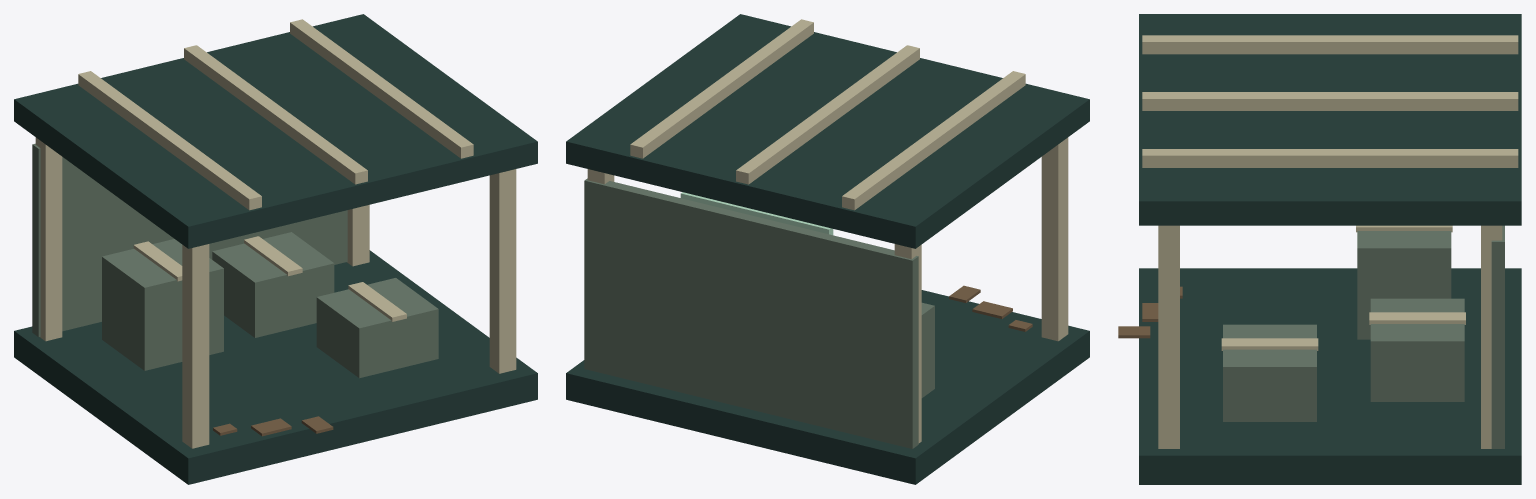
Rendered from shed-weathered.glb.
The picture shows the model from 3 angles, left to right: view 1: azimuth 30°, elevation 25°; view 2: azimuth 150°, elevation 25°; view 3: azimuth 270°, elevation 25°; orthographic projection. The views are drawn at different scales.
Parts seen in each view (by area): view 1: shed-weathered; view 2: shed-weathered; view 3: shed-weathered.
Part boxes in pixels (box(x1,y1,x2,y2)): shed-weathered: box(14, 14, 537, 484); shed-weathered: box(566, 14, 1089, 484); shed-weathered: box(1118, 14, 1521, 484).
Size of the model in its own units: 3.3 by 2.43 by 3.
